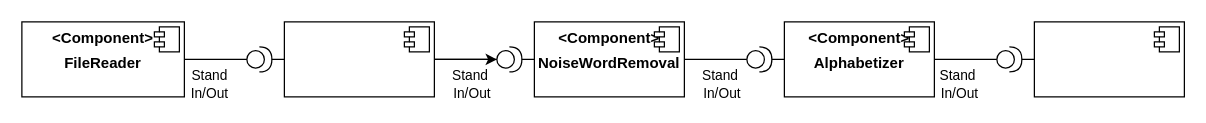
Some shapes in this 1206 by 123 pixel diagram are drawn without their labels. Each missing label, with the box of its shape:
<Component> CircularShift: (283, 21, 434, 97)
<Component> Output: (1033, 21, 1184, 97)
